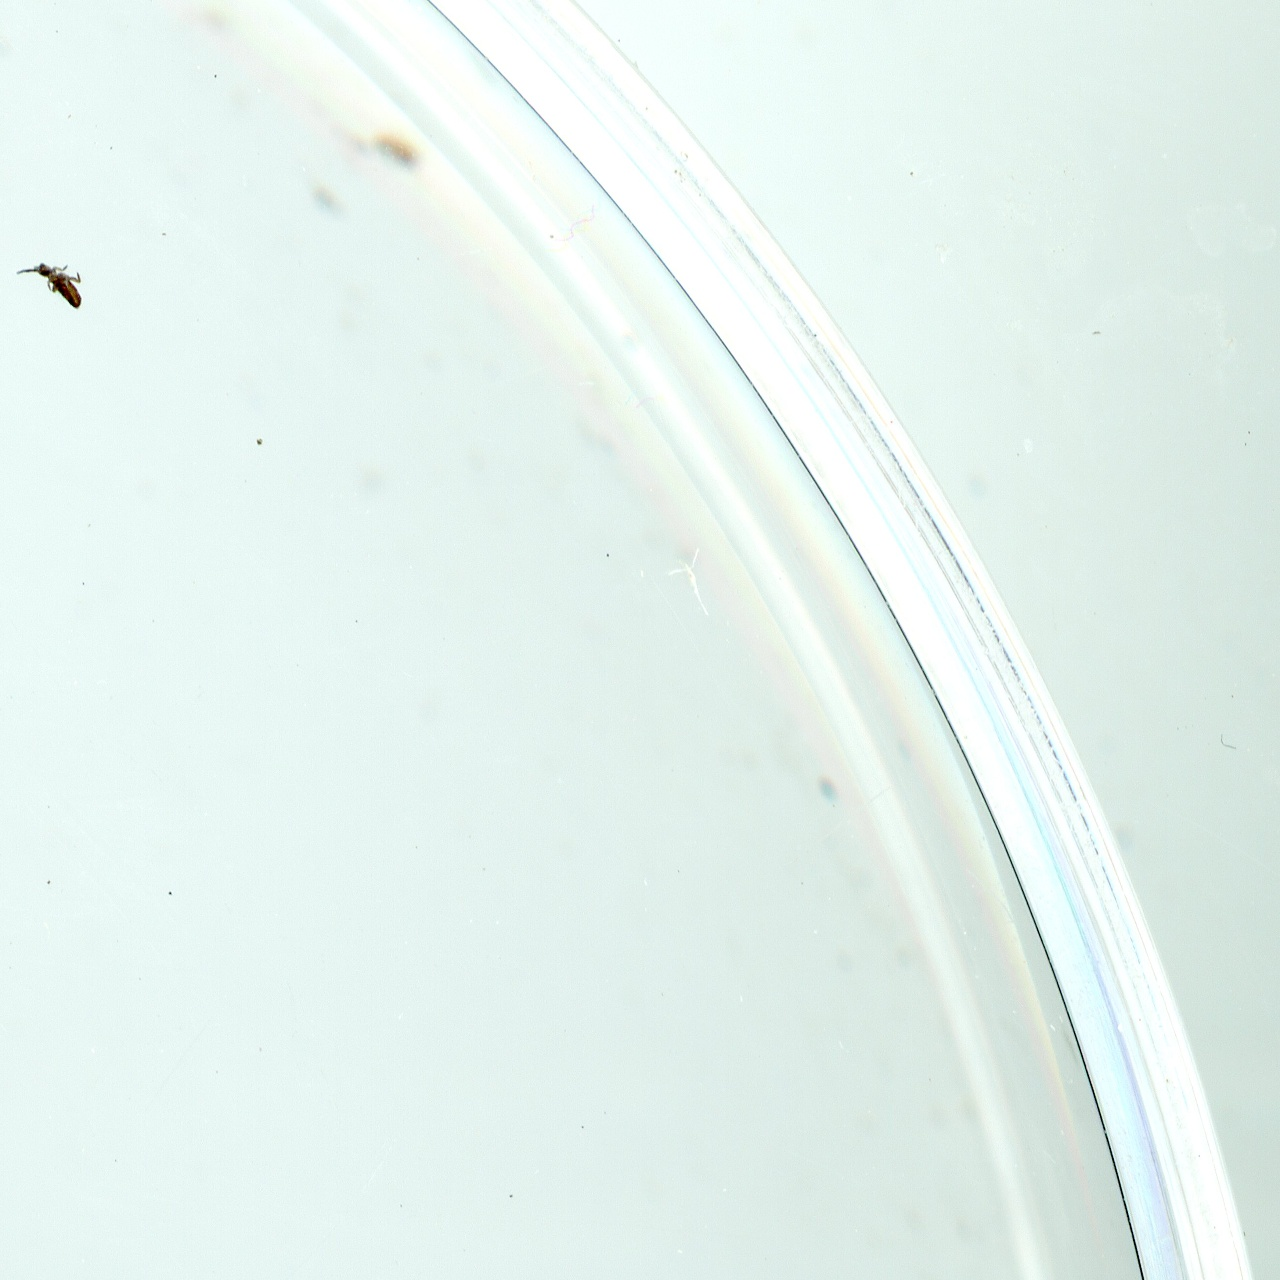arthropod: (14, 252, 86, 314)
